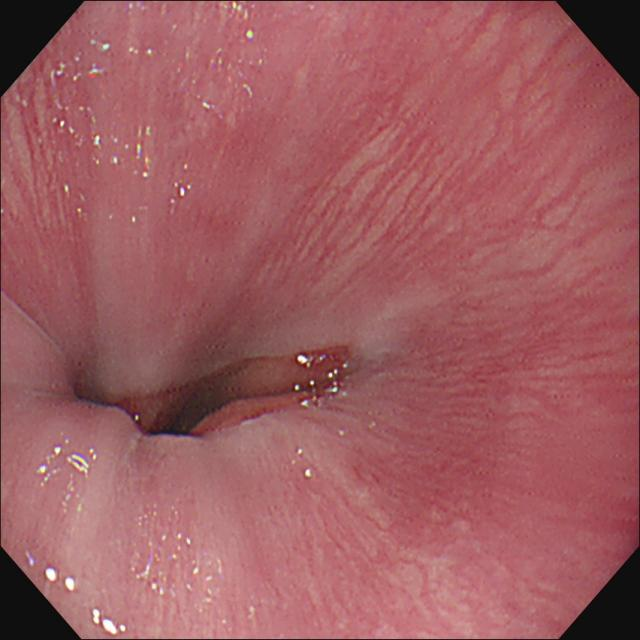I: (44, 297, 369, 494)
U: (43, 2, 267, 225), (133, 503, 224, 607), (294, 352, 350, 411), (37, 439, 99, 488), (91, 608, 128, 638), (45, 567, 79, 594), (296, 446, 315, 482)
